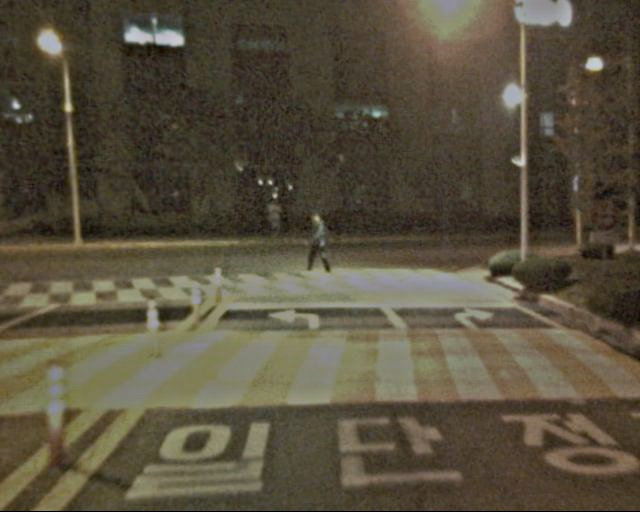person: (303, 211, 333, 284)
